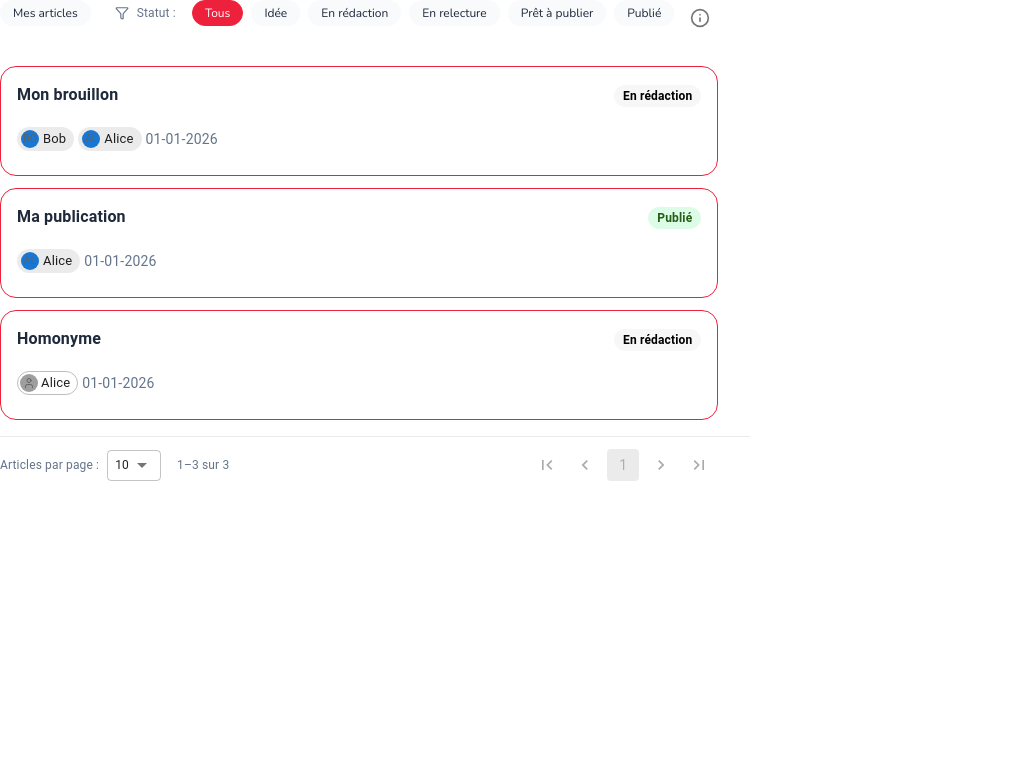
Mes articles › explique les cinq étapes uniquement dans le popup d’information
This screenshot has width=1024, height=768.
Click the button named "Comprendre les étapes des articles" at (700, 18), box 682,0 -> 718,36
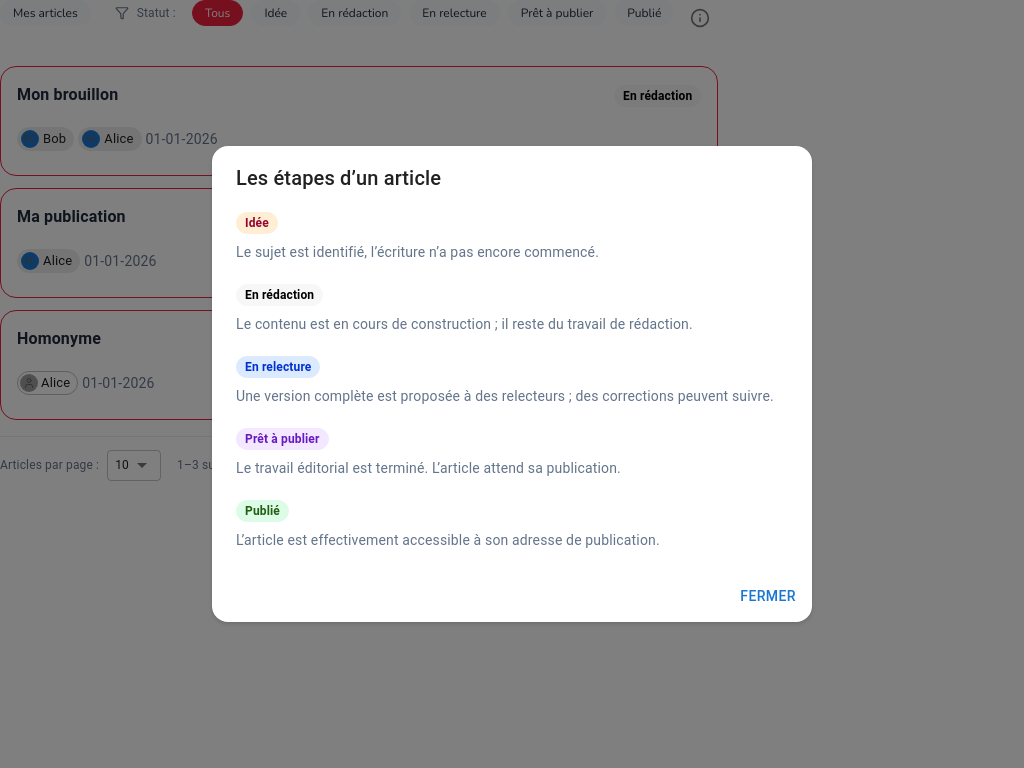
Expected: the text "Prêt à publier" is shown, 236,428 -> 328,450
Expected: the text "travail éditorial est terminé" is shown, 236,460 -> 621,476
Press Escape
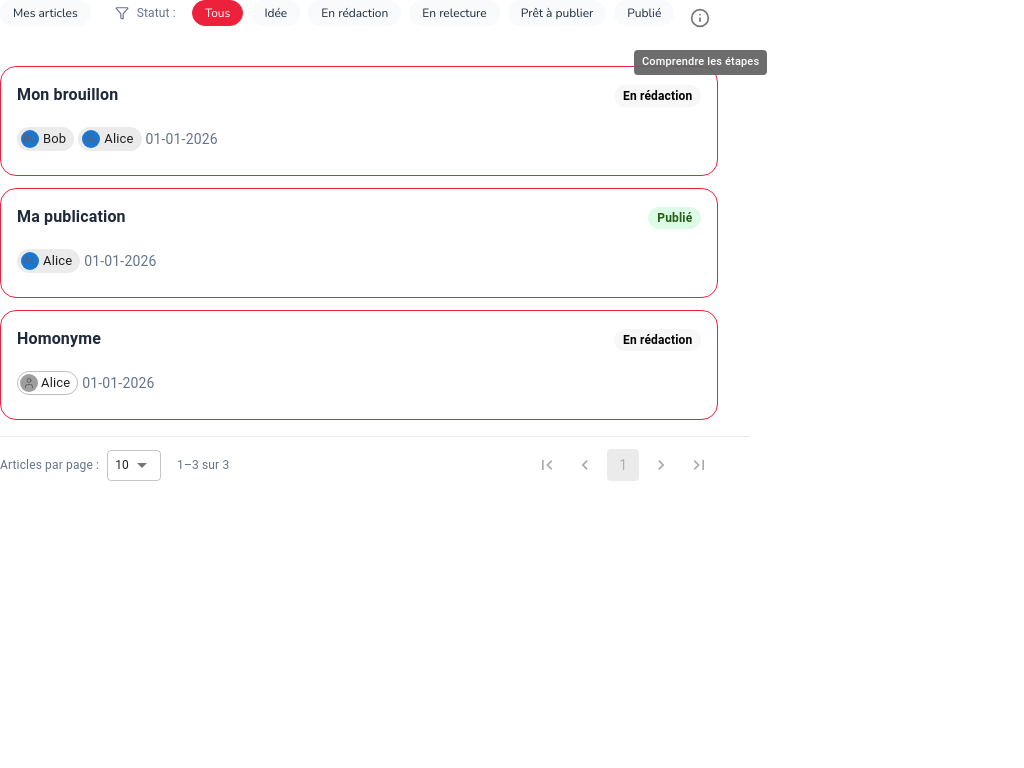
Expected: the dialog is gone
